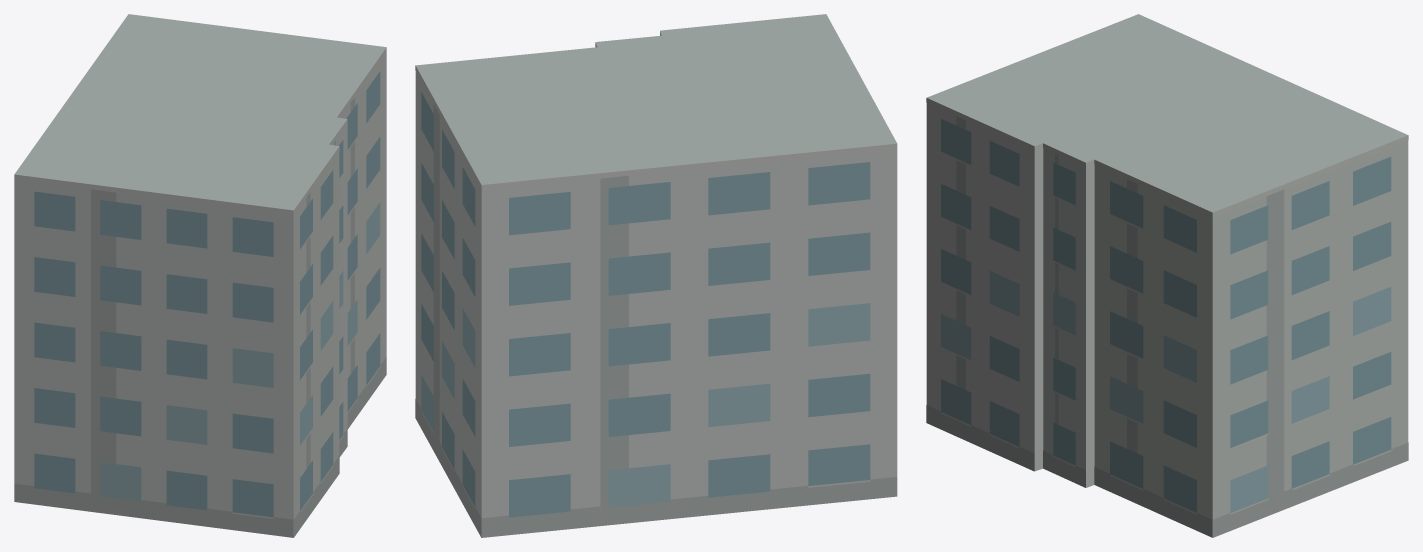
The model's file is survey-upis-32834505.glb.
3 views of the same model, side by side, from view 1: azimuth 30°, elevation 25°; view 2: azimuth 150°, elevation 25°; view 3: azimuth 270°, elevation 25° (orthographic). The views are drawn at different scales.
Visible parts, largest first — view 1: survey-upis-32834505.tmp; view 2: survey-upis-32834505.tmp; view 3: survey-upis-32834505.tmp.
Boxes of the visible parts, bbox=[...] form: survey-upis-32834505.tmp: bbox=[14, 14, 386, 537]; survey-upis-32834505.tmp: bbox=[415, 14, 897, 537]; survey-upis-32834505.tmp: bbox=[926, 14, 1408, 537].
Size of the model in its own units: 20.96 by 16 by 21.49.
